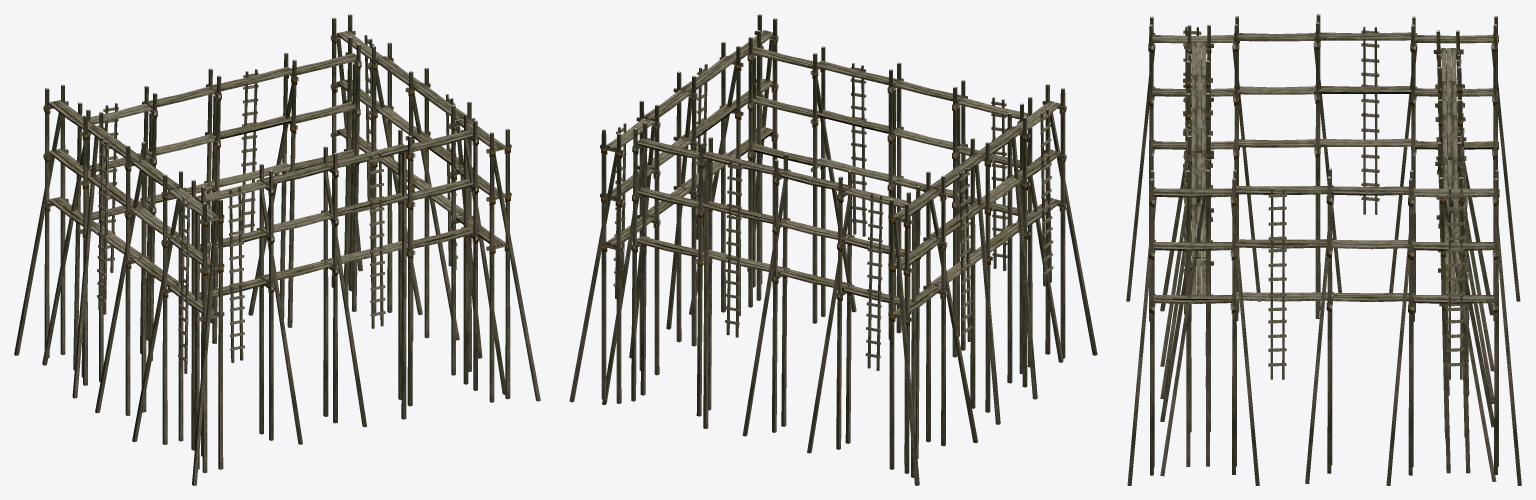
The model's file is scaffold_up_7x5_temple.glb.
3 renders of one model, left to right at view 1: azimuth 30°, elevation 25°; view 2: azimuth 150°, elevation 25°; view 3: azimuth 270°, elevation 25°, orthographic. The views are drawn at different scales.
Parts seen in each view (by area): view 1: scaffold_up_7x5_temple_part0; view 2: scaffold_up_7x5_temple_part0; view 3: scaffold_up_7x5_temple_part0.
Part boxes in pixels (x1,y1,x2,y2): scaffold_up_7x5_temple_part0: (14, 14, 540, 485); scaffold_up_7x5_temple_part0: (569, 14, 1097, 485); scaffold_up_7x5_temple_part0: (1126, 14, 1521, 485).
Size of the model in its own units: 6.28 by 4.8 by 5.64.
Materials: 1 (1 with a texture image).
